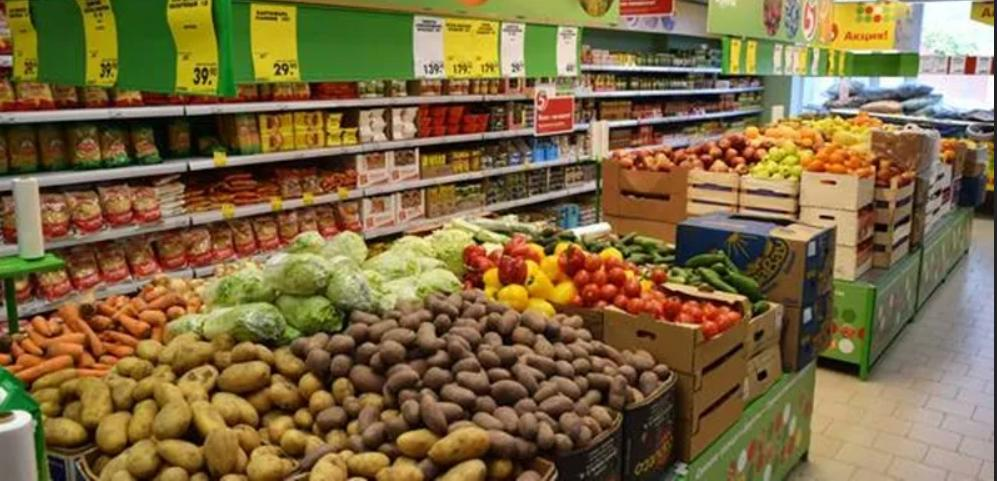cabbage: (366, 224, 473, 307)
cucumber: (662, 252, 770, 316), (589, 230, 672, 266)
green apple: (750, 144, 801, 182)
mandarin: (802, 144, 870, 174)
potato: (36, 336, 322, 481), (322, 312, 666, 426), (308, 422, 536, 481)
red apple: (611, 138, 775, 173)
sweet pepper: (461, 239, 588, 311)
tomato: (588, 266, 742, 342)
